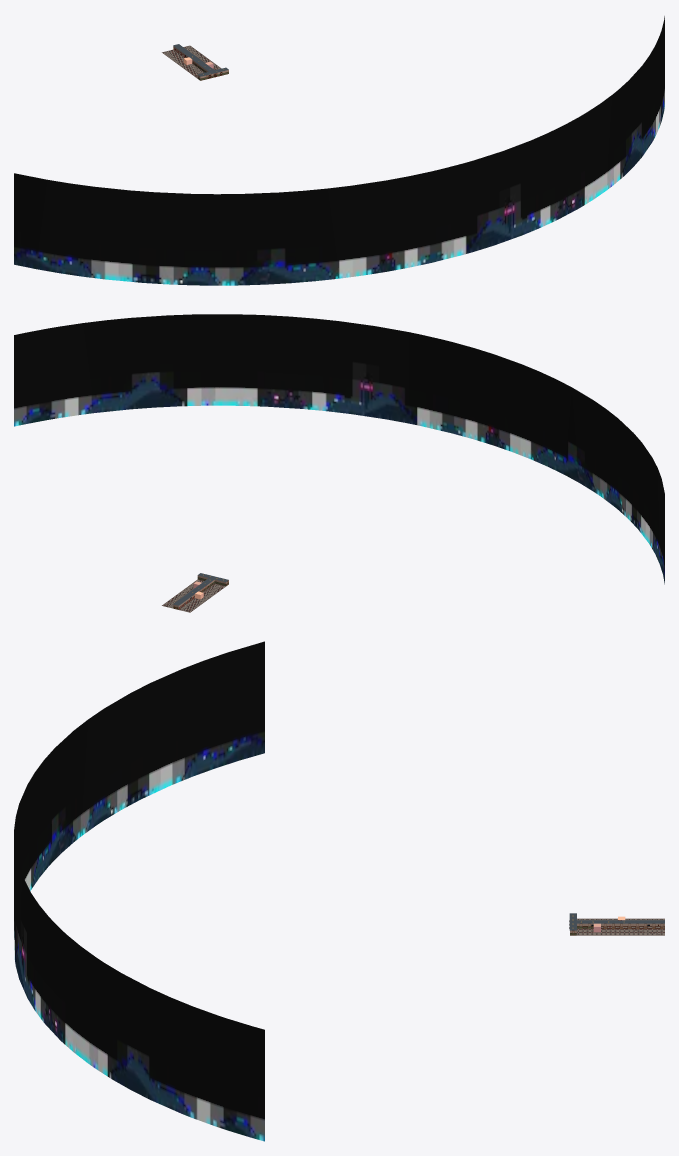
File: goodboat-corridor-1-night.lod1.glb
The picture shows the model from 3 angles, top to bottom: view 1: azimuth 30°, elevation 25°; view 2: azimuth 150°, elevation 25°; view 3: azimuth 270°, elevation 25°; orthographic projection. The views are drawn at different scales.
Visible parts, largest first — view 1: object 112, object 9; view 2: object 112, object 9; view 3: object 112, object 9.
Boxes of the visible parts, x1,y1,x2,y2 form: object 112: [14, 16, 664, 285]; object 9: [162, 45, 221, 78]; object 112: [14, 314, 664, 584]; object 9: [162, 579, 225, 612]; object 112: [14, 641, 264, 1141]; object 9: [576, 918, 664, 935].
Size of the model in its own units: 387 by 51.98 by 274.
138 materials, 58 textured.
